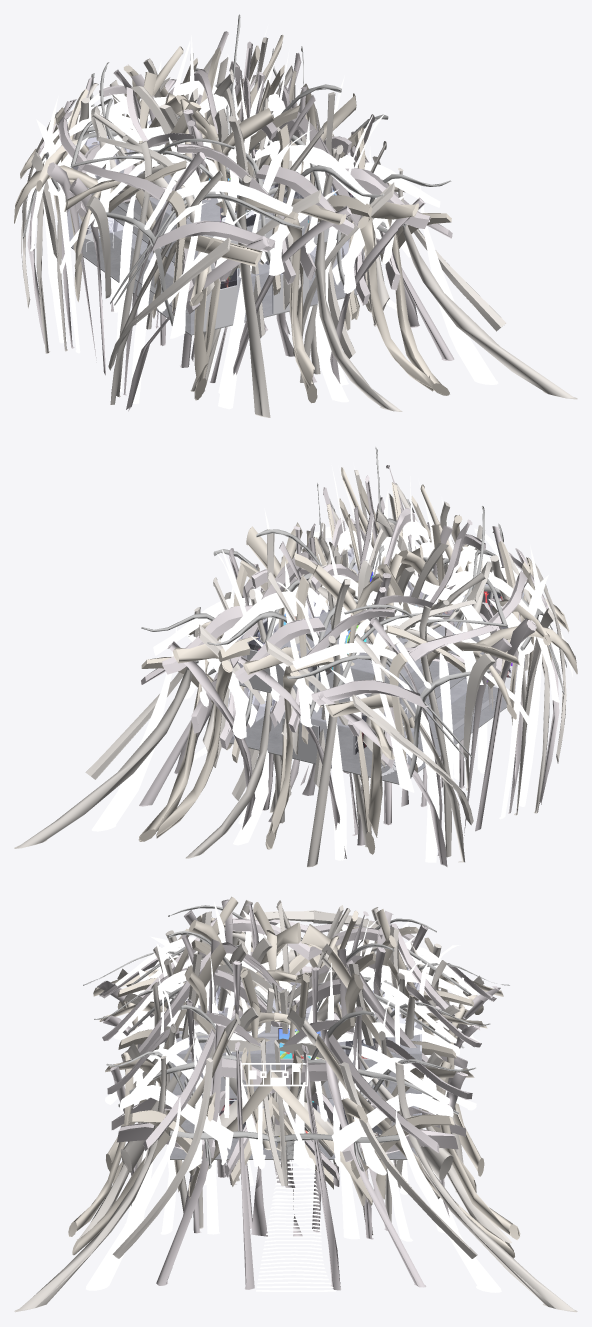
The picture shows the model from 3 angles, top to bottom: view 1: azimuth 30°, elevation 25°; view 2: azimuth 150°, elevation 25°; view 3: azimuth 270°, elevation 25°; orthographic projection.
Visible parts, largest first — view 1: facade, Merged Objects 1, cam, Merged Objects 2, zemin, duvar, Merged Objects; view 2: facade, Merged Objects 1, cam, Merged Objects 2, zemin, duvar, Merged Objects; view 3: facade, Merged Objects 1, Merged Objects 2, cam, zemin, Merged Objects, duvar.
Boxes of the visible parts, x1,y1,x2,y2 form: facade: (14,31,577,417); Merged Objects 1: (15,26,498,409); cam: (67,119,363,334); Merged Objects 2: (22,14,451,325); zemin: (71,170,357,335); duvar: (202,179,354,331); Merged Objects: (200,150,353,312); facade: (14,465,577,867); Merged Objects 1: (91,465,572,862); cam: (228,548,524,783); Merged Objects 2: (141,447,566,778); zemin: (229,608,515,784); duvar: (247,595,454,763); Merged Objects: (248,567,512,754); facade: (14,896,577,1312); Merged Objects 1: (86,902,501,1292); Merged Objects 2: (83,905,509,1171); cam: (170,968,421,1158); zemin: (170,1013,421,1159); Merged Objects: (219,1028,387,1138); duvar: (170,1017,421,1115).
Bounding box in the file's own units: 54.97 × 40.23 × 67.09.
Materials: 10 (3 with a texture image).
